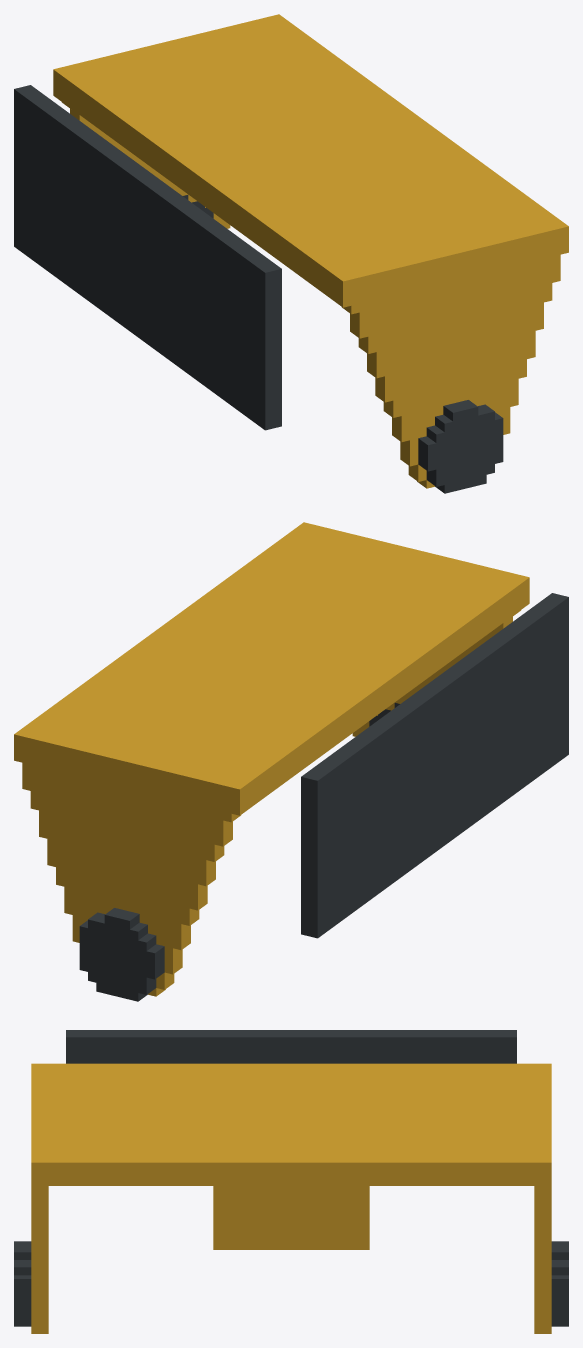
The model's file is road_roller_rear_yoke.glb.
3 views of the same model, one above another, from view 1: azimuth 30°, elevation 25°; view 2: azimuth 150°, elevation 25°; view 3: azimuth 270°, elevation 25° (orthographic). The views are drawn at different scales.
Parts seen in each view (by area): view 1: body:compound; view 2: body:compound; view 3: body:compound.
Boxes of the visible parts, x1=… form: body:compound: x1=14, y1=14, x2=568, y2=493; body:compound: x1=14, y1=522, x2=568, y2=1001; body:compound: x1=14, y1=1030, x2=568, y2=1333.
Size of the model in its own units: 1.06 by 0.8438 by 2.
